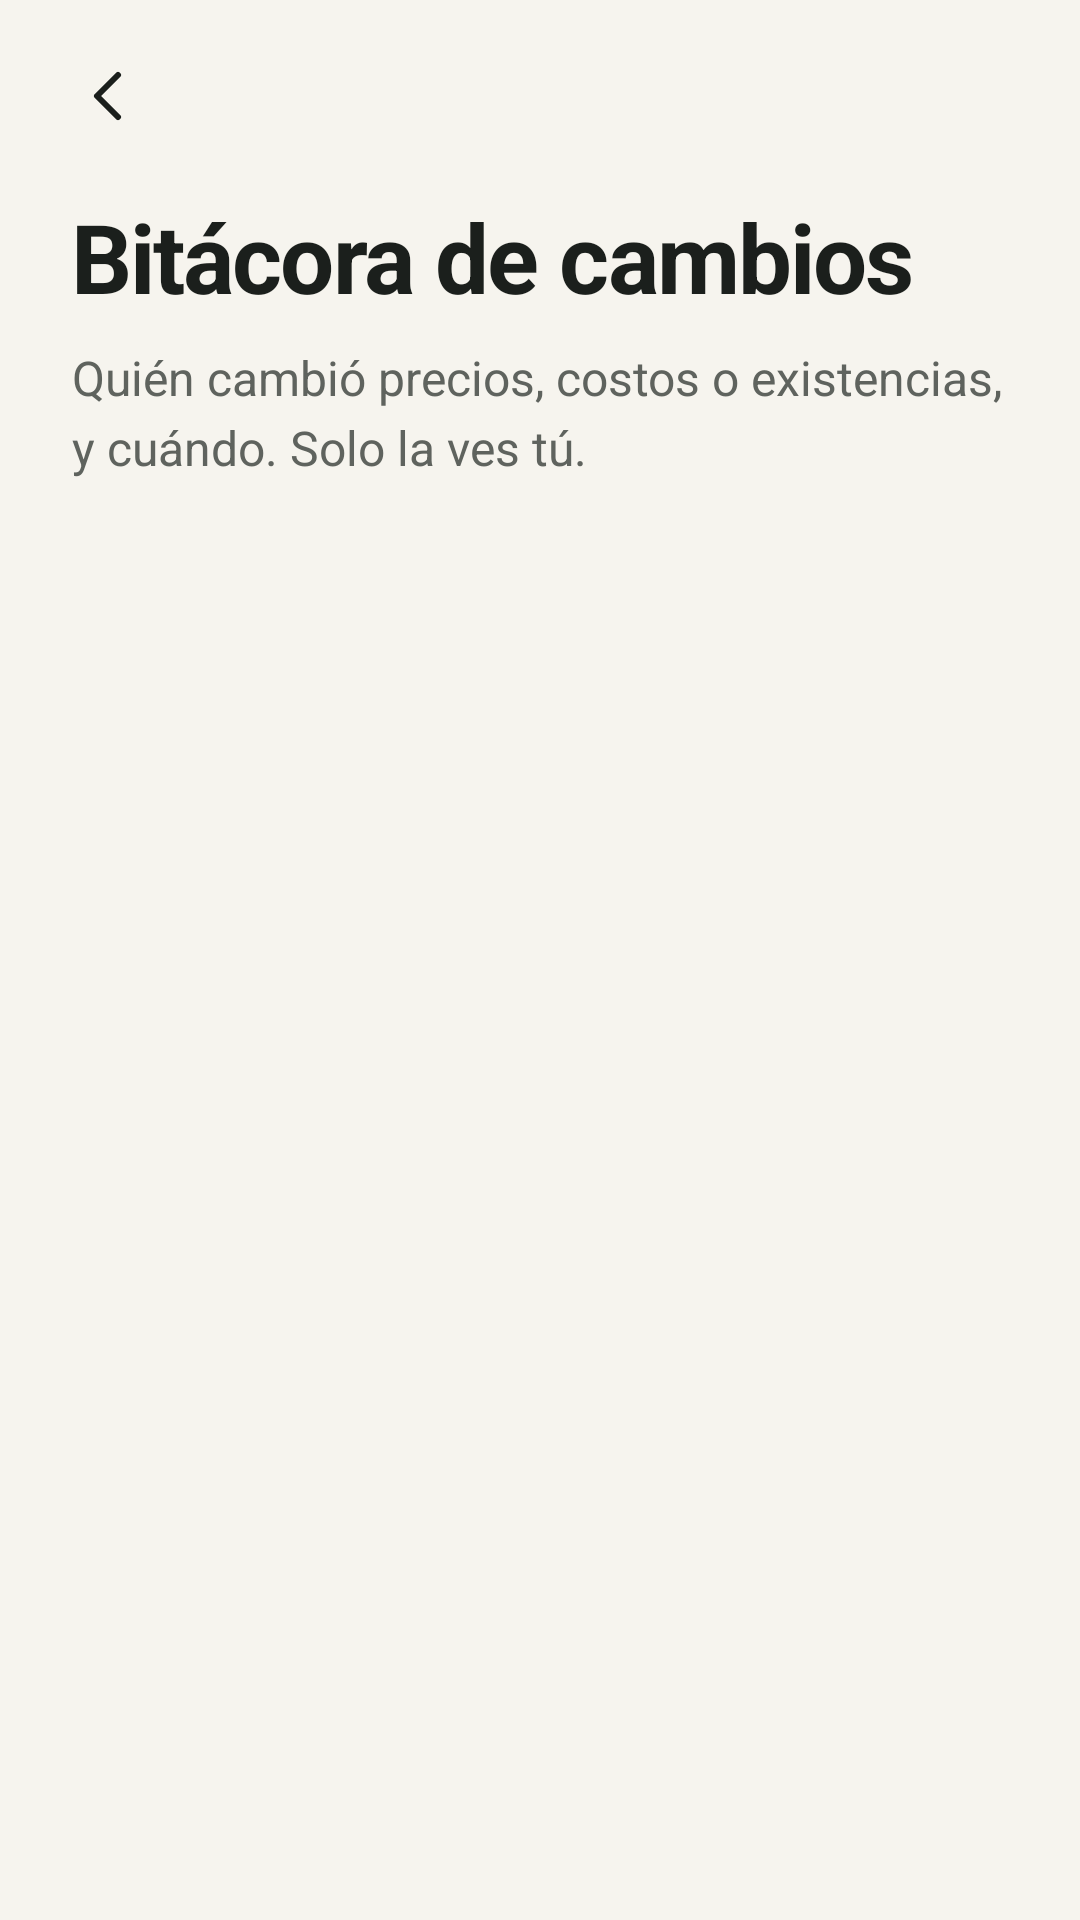

Where to tap for icons on this 1080*1920 app screen, as [x,y]:
Volver: [107,96]
